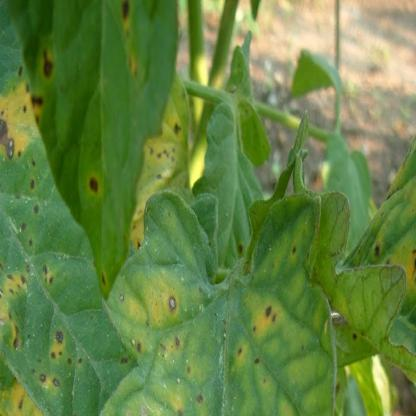Tomato Septoria leaf spot: (100, 191, 343, 415)
